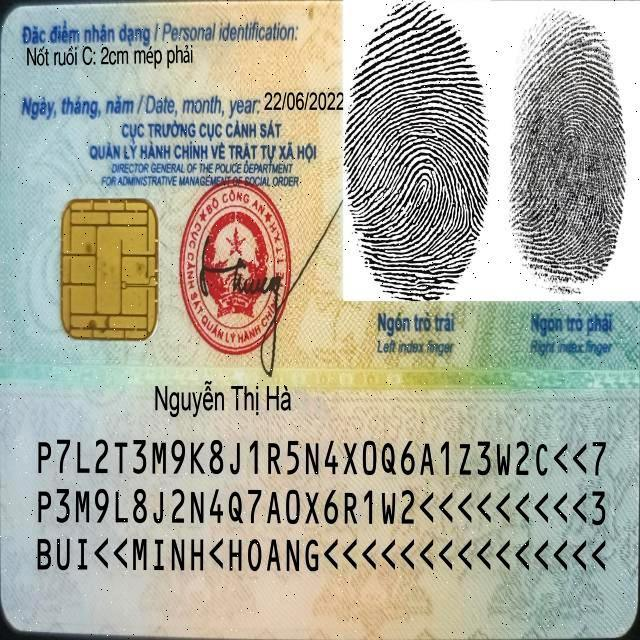features: (23, 44, 196, 74)
finger_print: (342, 3, 496, 358), (498, 2, 640, 358)
issue_date: (261, 87, 345, 114)
